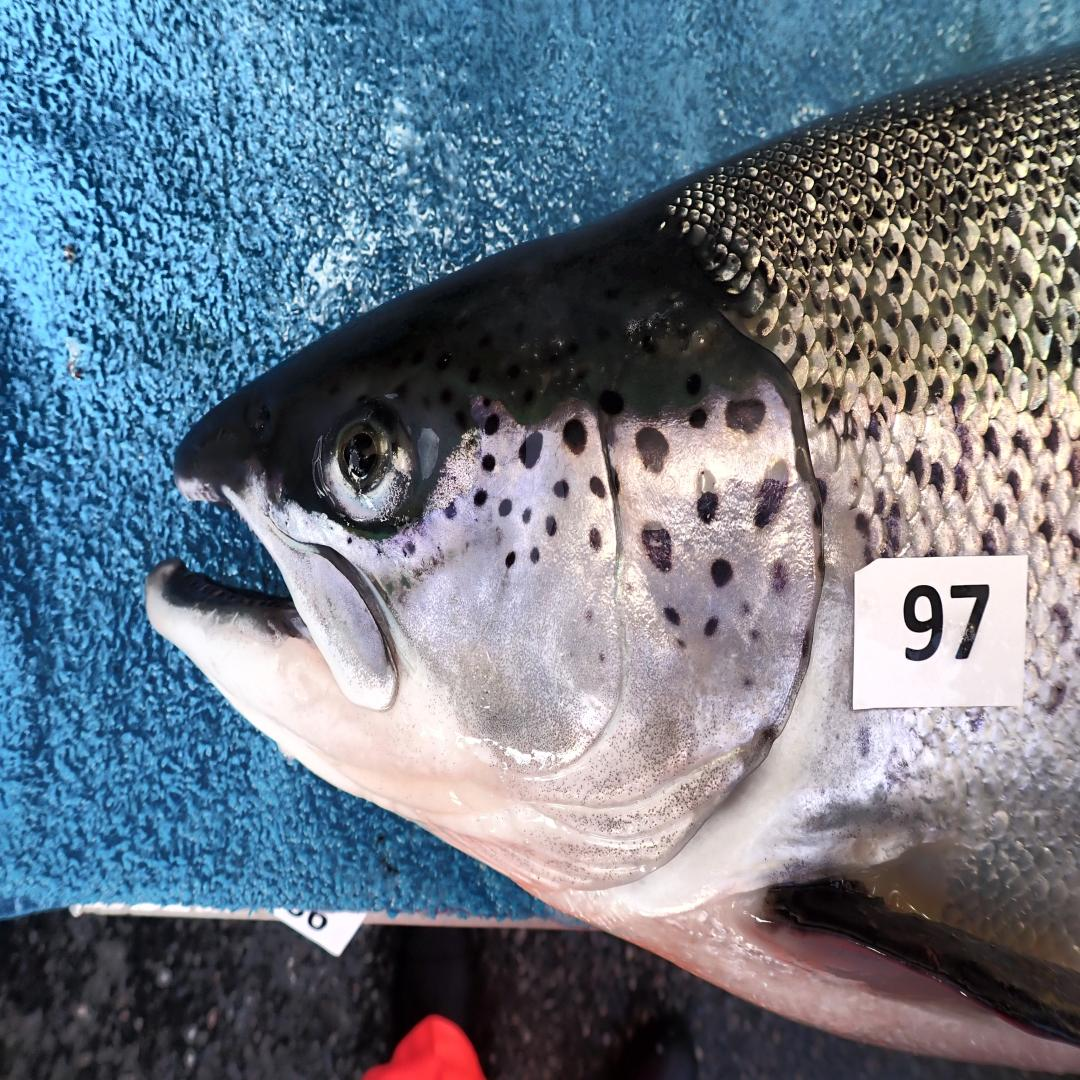spot: (755, 457, 790, 529), (635, 428, 669, 472), (641, 526, 673, 571), (696, 464, 720, 523), (726, 399, 766, 433), (563, 419, 586, 456), (520, 433, 542, 470), (711, 560, 732, 588), (772, 560, 789, 593), (802, 622, 814, 664), (688, 408, 707, 428), (589, 475, 605, 498), (485, 413, 500, 436), (491, 523, 504, 548), (610, 467, 620, 498), (498, 498, 513, 518), (589, 526, 601, 551), (553, 481, 570, 498), (705, 616, 719, 636), (664, 608, 681, 624), (443, 503, 458, 520), (673, 633, 688, 650), (738, 599, 753, 616), (481, 456, 496, 472), (751, 624, 764, 641), (403, 540, 416, 557), (546, 515, 557, 534), (814, 503, 823, 526), (475, 489, 487, 506), (742, 675, 755, 689), (529, 548, 540, 562), (597, 650, 608, 664), (506, 551, 515, 568), (523, 509, 532, 523), (584, 608, 593, 622)
